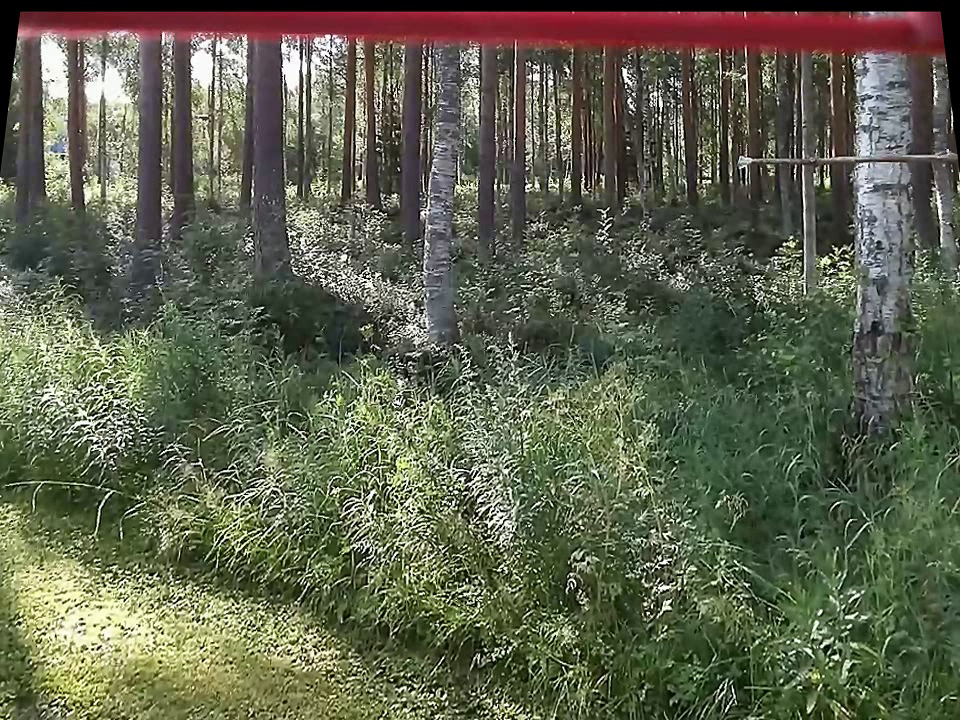branch: (758, 144, 953, 179)
